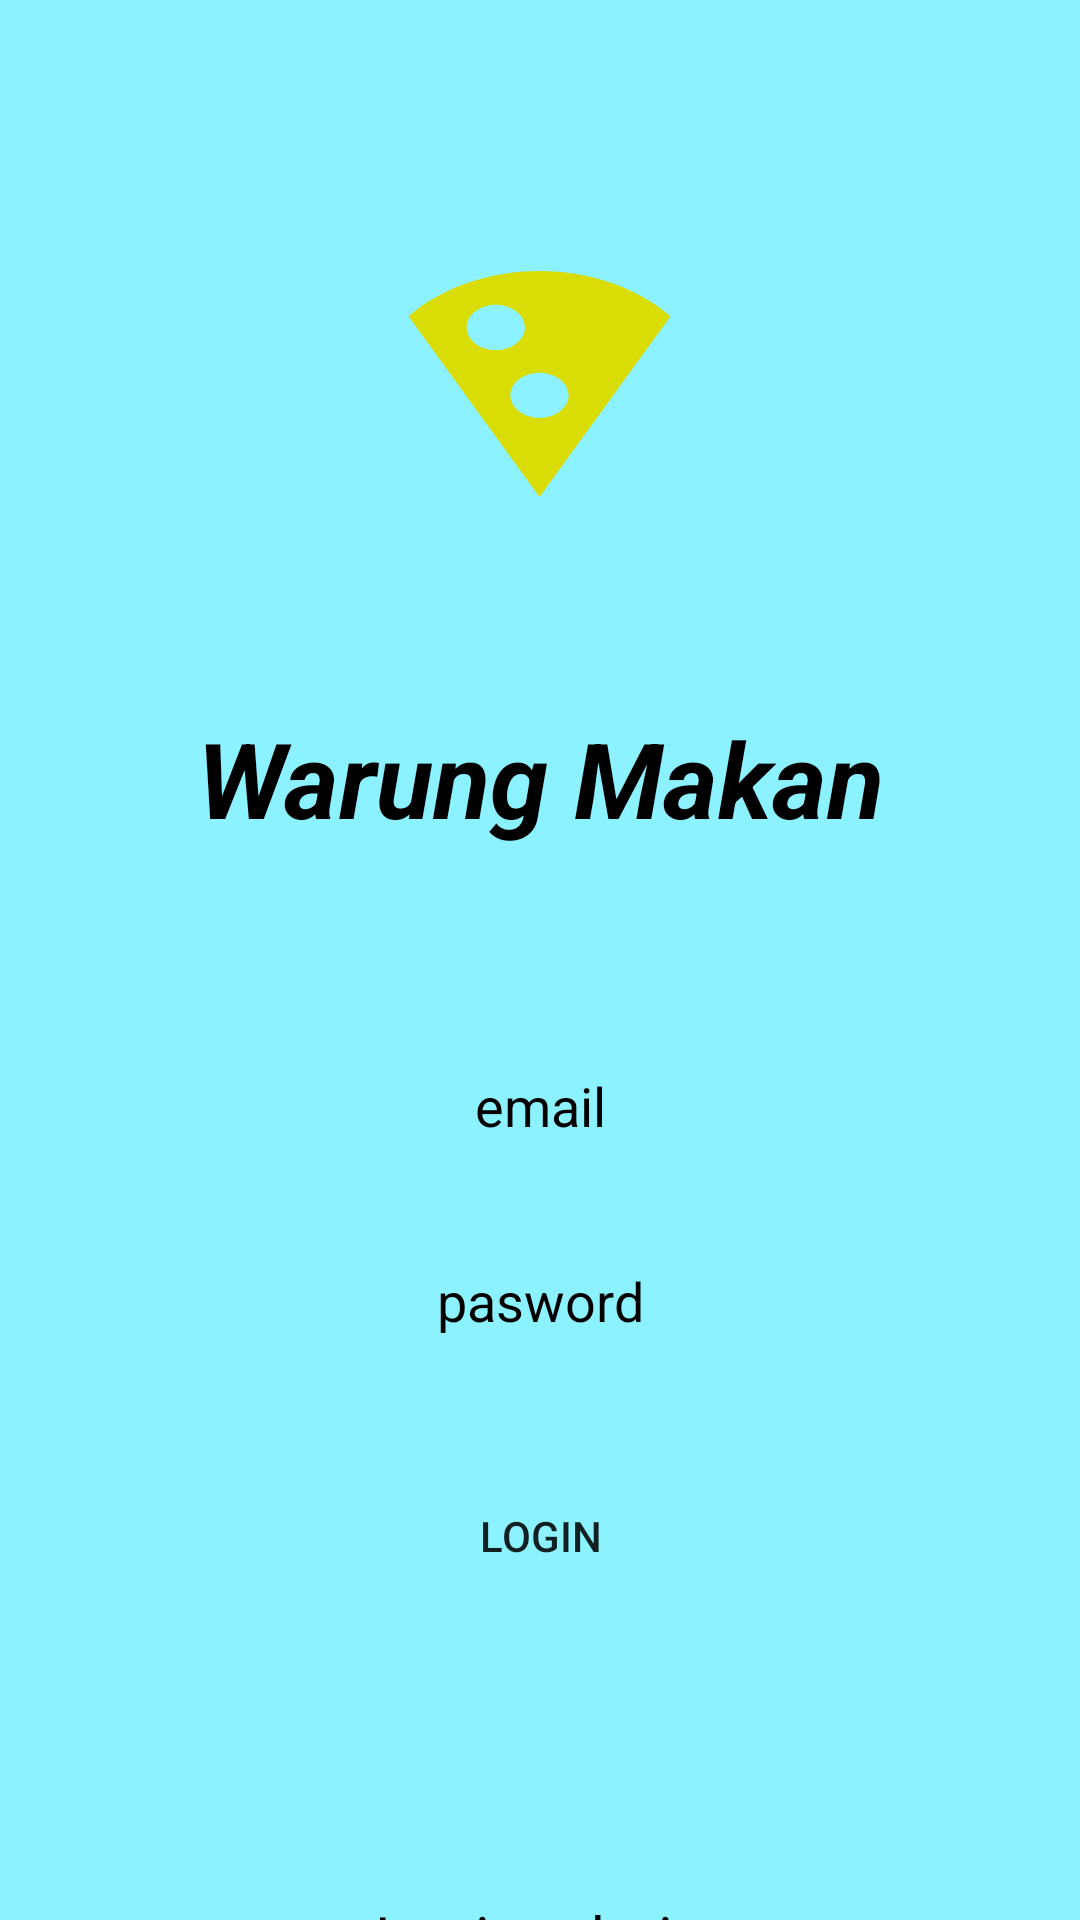

Icon click points for this 1080px×1920px phone screenshot, format point (x, y):
pizza: point (539, 384)
